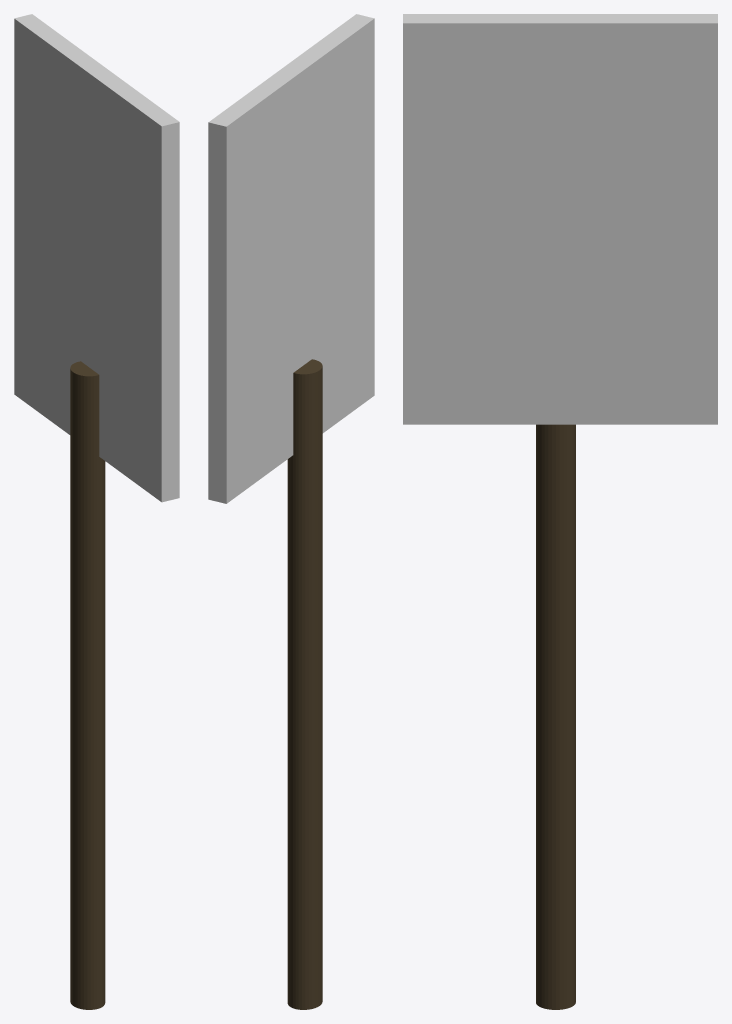
The model's file is Speed Limit Blender.fbx.
3 views of the same model, side by side, from view 1: azimuth 30°, elevation 25°; view 2: azimuth 150°, elevation 25°; view 3: azimuth 270°, elevation 25° (orthographic). The views are drawn at different scales.
Visible parts, largest first — view 1: Cube, Cylinder; view 2: Cube, Cylinder; view 3: Cube, Cylinder.
Part boxes in pixels (x1,y1,x2,y2): Cube: (14,14,179,502); Cylinder: (70,361,105,1009); Cube: (208,14,374,503); Cylinder: (287,359,322,1009); Cube: (403,14,717,424); Cylinder: (536,424,575,1009).
Bounding box in the file's own units: 73.25 × 1850 × 534.
